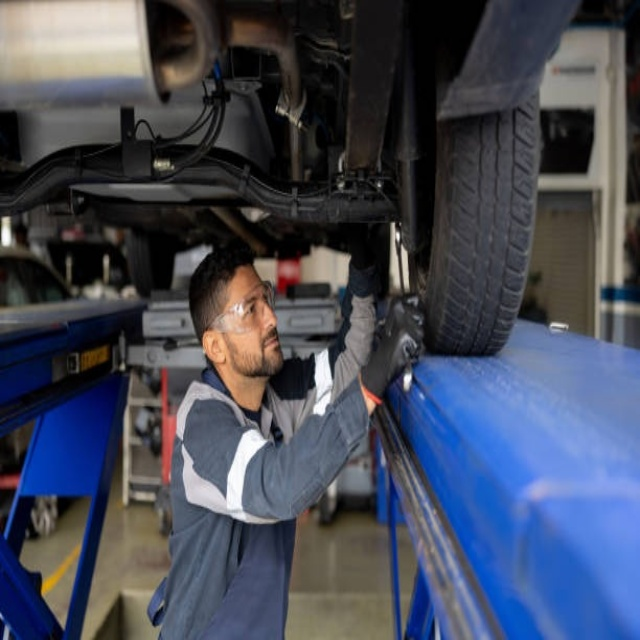Gafas: (208, 282, 275, 335)
Guantes: (358, 287, 427, 402)
Sin_mascara: (253, 328, 284, 369)
